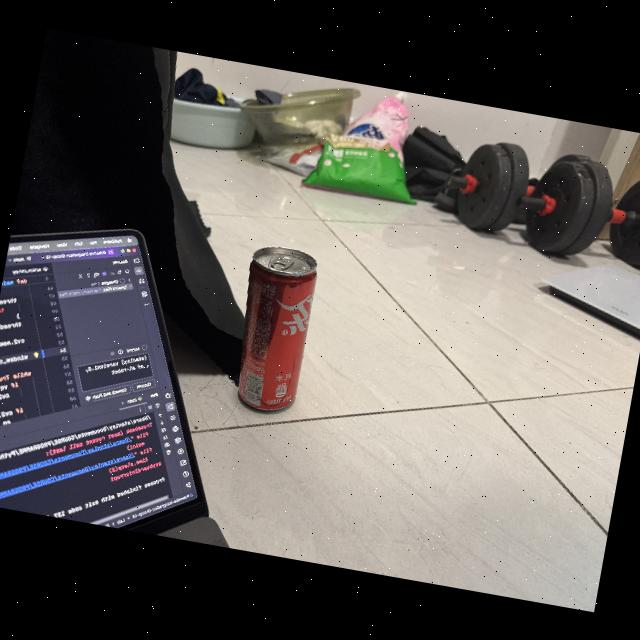Cola: (220, 238, 330, 422)
